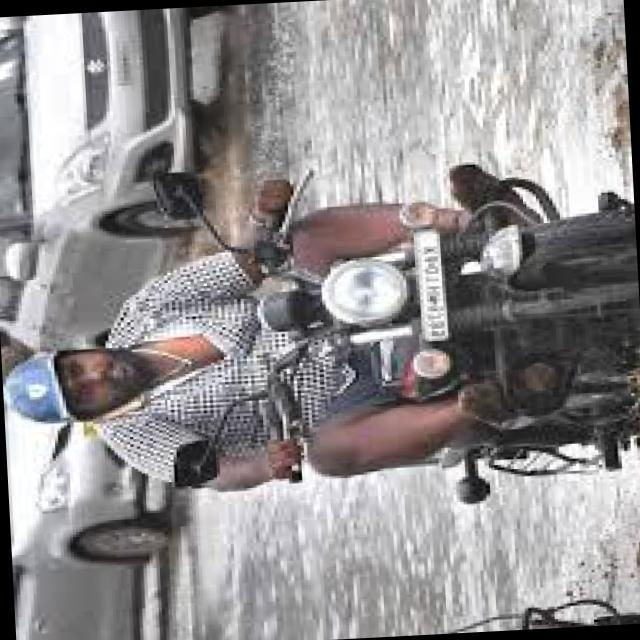USING_MOBILE: (80, 389, 156, 432)
WITH_HELMET: (1, 338, 153, 432)
